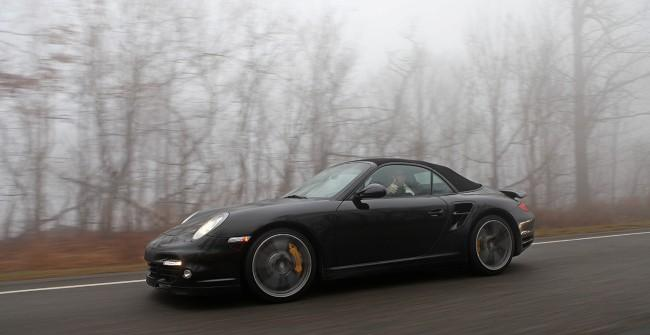car: (141, 155, 537, 306)
